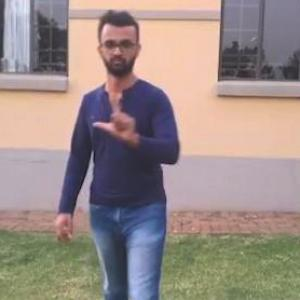land_hand: (90, 80, 144, 144)
